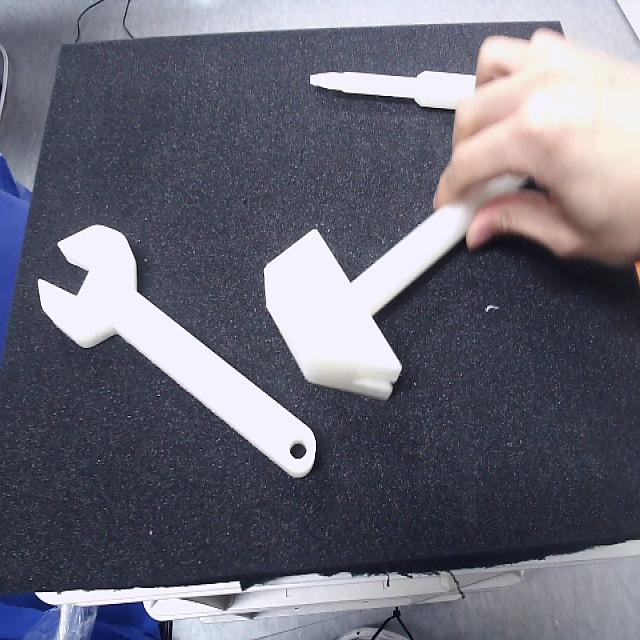Spanner: (39, 225, 318, 480)
